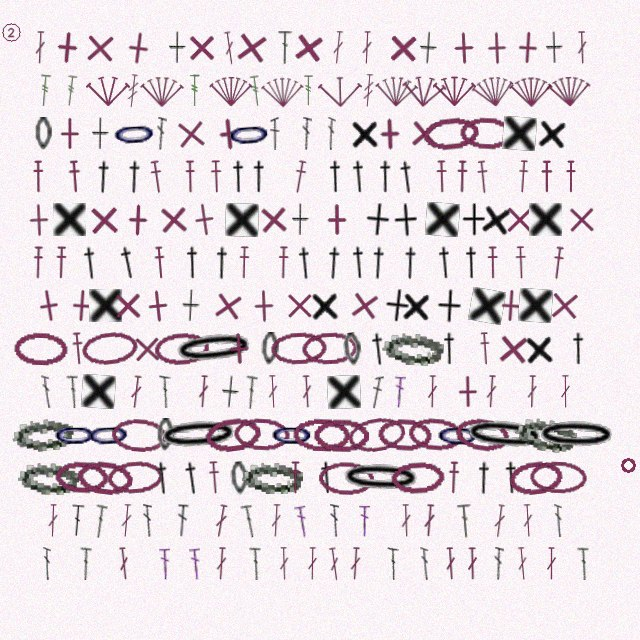chain: (171, 328, 257, 369), (462, 415, 547, 455), (156, 416, 241, 454), (339, 460, 423, 496), (535, 418, 618, 452), (514, 414, 578, 455), (346, 414, 407, 455), (11, 415, 75, 454), (453, 415, 512, 455), (80, 329, 140, 368), (203, 415, 262, 454), (75, 458, 134, 497), (507, 458, 565, 497), (421, 115, 480, 153), (382, 331, 444, 366), (407, 416, 465, 453), (106, 459, 164, 496), (110, 417, 169, 453), (153, 331, 211, 367), (18, 461, 79, 495), (529, 460, 588, 495), (270, 331, 328, 366), (301, 331, 359, 366), (233, 417, 291, 452), (292, 417, 350, 452), (377, 417, 433, 453), (390, 460, 446, 496), (242, 461, 303, 494), (459, 116, 515, 151), (13, 331, 69, 366), (54, 460, 110, 495), (318, 461, 375, 495), (313, 418, 369, 452), (225, 116, 273, 152), (111, 116, 158, 151), (85, 417, 132, 452), (435, 418, 481, 452), (52, 418, 98, 451), (269, 418, 315, 451), (342, 332, 363, 366), (230, 461, 249, 495), (261, 332, 279, 365), (35, 117, 52, 150), (157, 418, 174, 451)
double: (91, 504, 108, 538), (240, 504, 257, 538), (213, 504, 229, 538), (294, 504, 310, 538), (457, 504, 473, 538), (222, 31, 237, 65), (243, 375, 258, 409), (492, 504, 507, 538), (327, 547, 342, 581), (70, 504, 85, 537), (129, 375, 143, 409), (370, 375, 384, 409), (278, 31, 292, 64), (331, 31, 345, 64), (78, 547, 92, 580), (117, 547, 131, 580), (154, 117, 167, 150), (66, 375, 79, 408), (197, 375, 210, 408), (393, 375, 406, 408), (485, 375, 498, 408), (120, 504, 133, 537), (176, 504, 189, 537), (423, 504, 436, 537), (189, 547, 202, 580), (215, 547, 228, 580), (349, 547, 362, 580), (444, 547, 457, 580), (516, 547, 529, 580), (34, 31, 46, 64), (361, 31, 373, 64), (576, 31, 588, 64), (300, 117, 312, 150), (159, 375, 171, 408), (267, 375, 279, 408), (301, 375, 313, 408), (526, 375, 538, 408), (47, 504, 59, 537), (270, 504, 282, 537), (400, 504, 412, 537), (522, 504, 534, 537), (159, 547, 171, 580), (249, 547, 261, 580), (278, 547, 290, 580), (387, 547, 399, 580), (492, 547, 504, 580), (577, 547, 589, 580), (41, 375, 52, 408), (427, 375, 438, 408), (560, 375, 571, 408), (359, 504, 370, 537), (307, 547, 318, 580), (467, 547, 478, 580), (546, 547, 557, 580), (270, 117, 280, 150), (326, 117, 336, 150), (420, 547, 430, 580), (143, 504, 152, 537), (330, 504, 339, 537), (554, 504, 563, 537), (43, 547, 51, 580)
fan: (470, 71, 517, 110), (401, 73, 447, 109), (546, 73, 592, 108), (374, 73, 419, 108), (260, 74, 305, 108), (140, 74, 184, 108), (318, 74, 362, 108), (509, 74, 553, 108), (86, 74, 130, 107), (209, 74, 253, 107), (433, 74, 476, 107)
half_double: (116, 245, 140, 280), (396, 160, 418, 194), (323, 246, 345, 280), (181, 461, 203, 495), (93, 160, 114, 194), (124, 160, 145, 194), (80, 246, 101, 280), (368, 246, 389, 280), (400, 246, 421, 280), (368, 332, 389, 366), (152, 461, 173, 495), (212, 246, 232, 280), (295, 246, 315, 280), (474, 461, 494, 495), (249, 160, 269, 193), (349, 160, 369, 193), (349, 246, 369, 279), (435, 246, 455, 279), (317, 461, 337, 494), (229, 160, 248, 193), (326, 160, 345, 193), (376, 160, 395, 193), (183, 246, 202, 279), (462, 246, 481, 279), (440, 332, 459, 365), (569, 332, 588, 365), (502, 461, 521, 494), (291, 160, 309, 194), (148, 160, 165, 194), (475, 160, 491, 194), (550, 246, 566, 280), (67, 160, 82, 193), (207, 461, 222, 494), (209, 160, 223, 193), (516, 160, 530, 193), (54, 246, 68, 279), (153, 246, 167, 279), (514, 246, 528, 279), (71, 332, 85, 365), (478, 332, 492, 365), (435, 160, 448, 193), (540, 160, 553, 193), (277, 246, 290, 279), (486, 246, 499, 279), (289, 461, 302, 494), (447, 461, 460, 494), (32, 160, 44, 193), (184, 160, 196, 193), (456, 160, 468, 193), (565, 160, 577, 193), (32, 246, 44, 279), (238, 246, 250, 279)
noise: (0, 21, 22, 43), (618, 455, 638, 475)
single: (209, 287, 247, 325), (468, 287, 506, 325), (233, 29, 270, 66), (290, 29, 327, 66), (186, 201, 223, 238), (30, 287, 67, 324), (346, 287, 383, 324), (120, 30, 156, 66), (173, 116, 209, 152), (211, 116, 247, 152), (140, 288, 176, 324), (495, 331, 531, 367), (479, 201, 514, 238), (50, 30, 85, 65), (510, 30, 545, 65), (407, 116, 442, 151), (502, 116, 537, 151), (156, 202, 191, 237), (256, 202, 291, 237), (425, 202, 460, 237), (64, 288, 99, 323), (493, 288, 528, 323), (518, 288, 553, 323), (547, 288, 582, 323), (221, 331, 256, 366), (81, 374, 116, 409), (83, 31, 117, 65), (386, 31, 420, 65), (447, 31, 481, 65), (480, 31, 514, 65), (373, 117, 407, 151), (22, 203, 56, 237), (87, 203, 121, 237), (121, 203, 155, 237), (225, 203, 259, 237), (247, 289, 281, 323), (130, 332, 164, 366), (327, 375, 361, 409), (536, 116, 569, 151), (185, 31, 218, 64), (53, 117, 86, 150), (53, 203, 86, 236), (320, 203, 353, 236), (503, 203, 536, 236), (529, 203, 562, 236), (565, 203, 598, 236), (89, 289, 122, 322), (111, 289, 144, 322), (283, 289, 316, 322), (451, 375, 484, 408), (401, 289, 432, 323), (524, 332, 555, 366), (350, 117, 380, 150), (310, 289, 340, 322), (383, 288, 411, 323), (364, 202, 391, 237), (392, 203, 419, 237), (436, 289, 462, 323), (461, 203, 486, 236), (419, 31, 438, 65), (221, 375, 240, 409), (182, 289, 200, 322), (169, 31, 186, 64), (546, 31, 563, 64), (92, 117, 109, 150), (292, 203, 309, 236)
treble: (64, 74, 78, 108), (126, 74, 140, 108), (249, 74, 263, 108), (38, 74, 52, 107), (362, 74, 375, 107), (189, 74, 200, 107), (303, 74, 314, 107)
